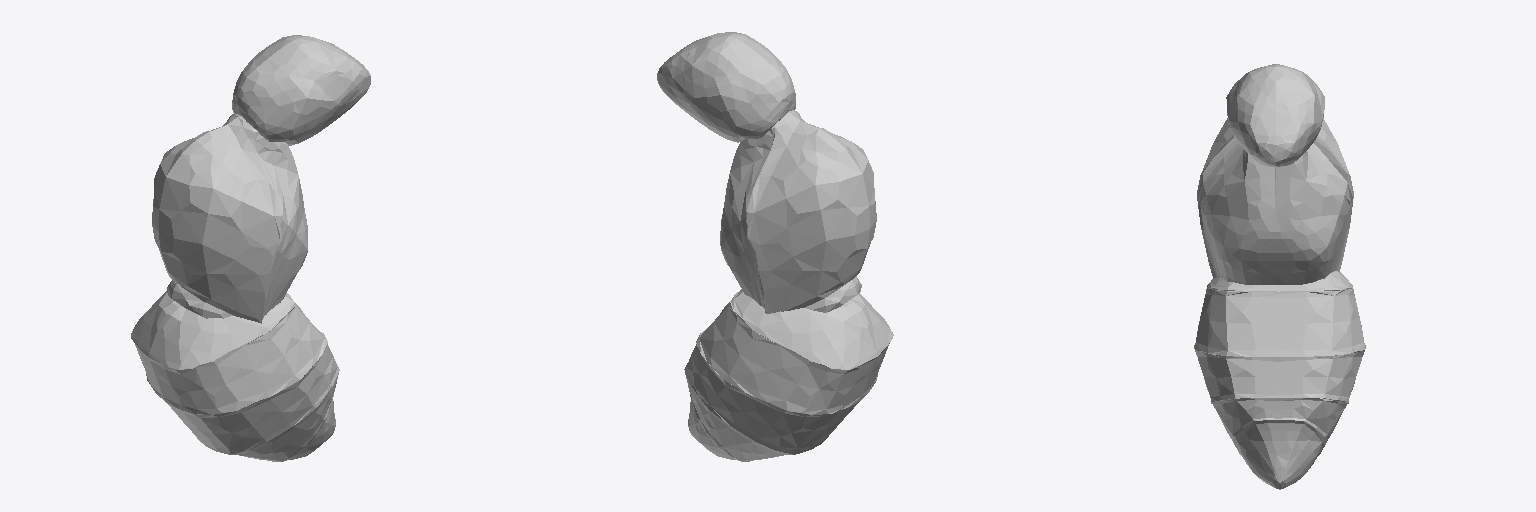
The model's file is ant_sitting_body.obj.
3 views of the same model, side by side, from view 1: azimuth 30°, elevation 25°; view 2: azimuth 150°, elevation 25°; view 3: azimuth 270°, elevation 25° (orthographic).
Parts seen in each view (by area): view 1: ant11; view 2: ant11; view 3: ant11.
Part boxes in pixels (left/top/right/bottom): ant11: left=131, top=35, right=370, bottom=461; ant11: left=657, top=32, right=893, bottom=461; ant11: left=1194, top=64, right=1365, bottom=489.
Bounding box in the file's own units: 1.2 × 2.2 × 0.8215.